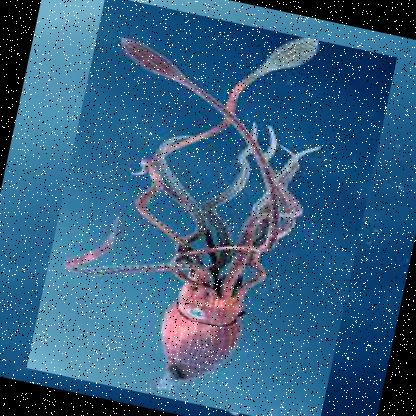colossal_squid: (25, 0, 398, 415)
